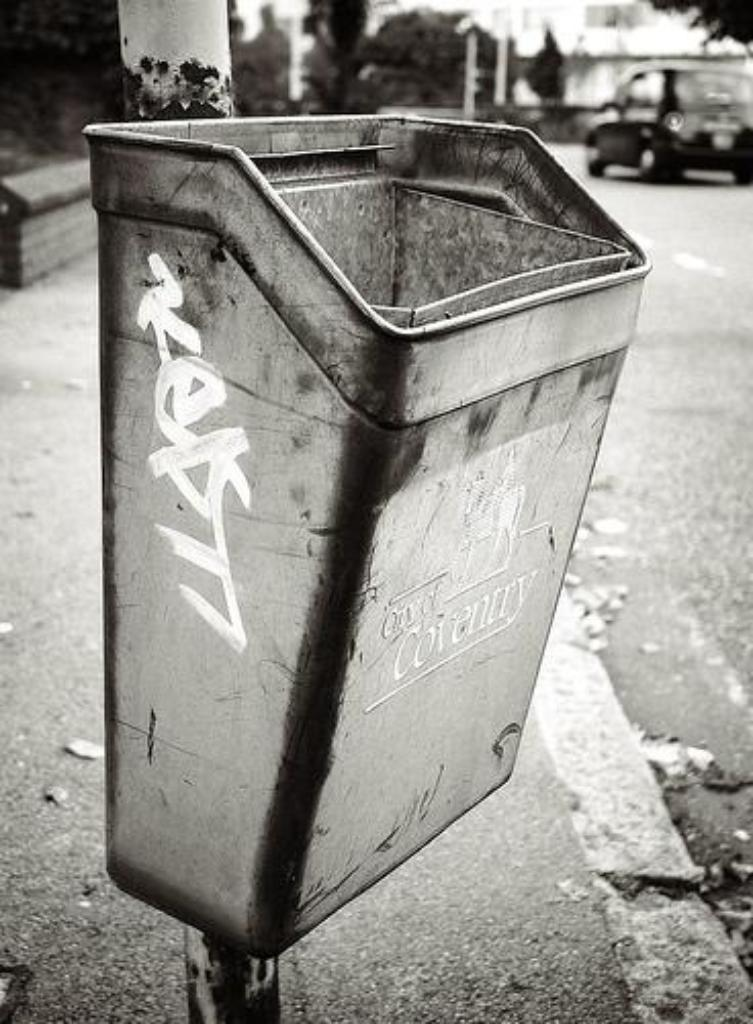dustbin: (82, 73, 676, 938)
